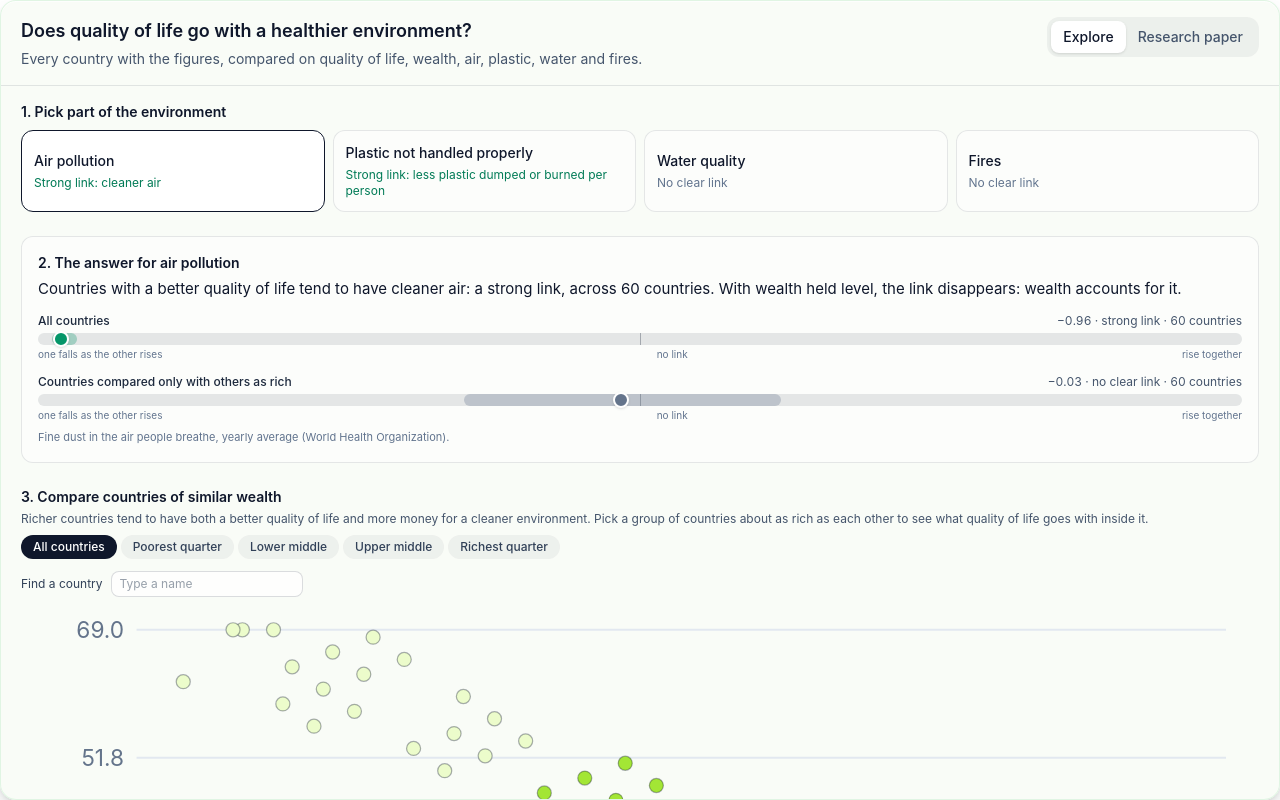
Findings — Explore › answers for the part picked, in a sentence and on a bar from −1 to +1
Check: the heading "2. The answer for air pollution" is shown, box [38, 254, 240, 271]
Check: the text "Countries with a better quality of life tend to have cleaner air: a strong link, across 60 countries." is shown, box [38, 279, 1182, 298]
Click the button "Fires No clear link" at [985, 160], box [956, 130, 1259, 212]
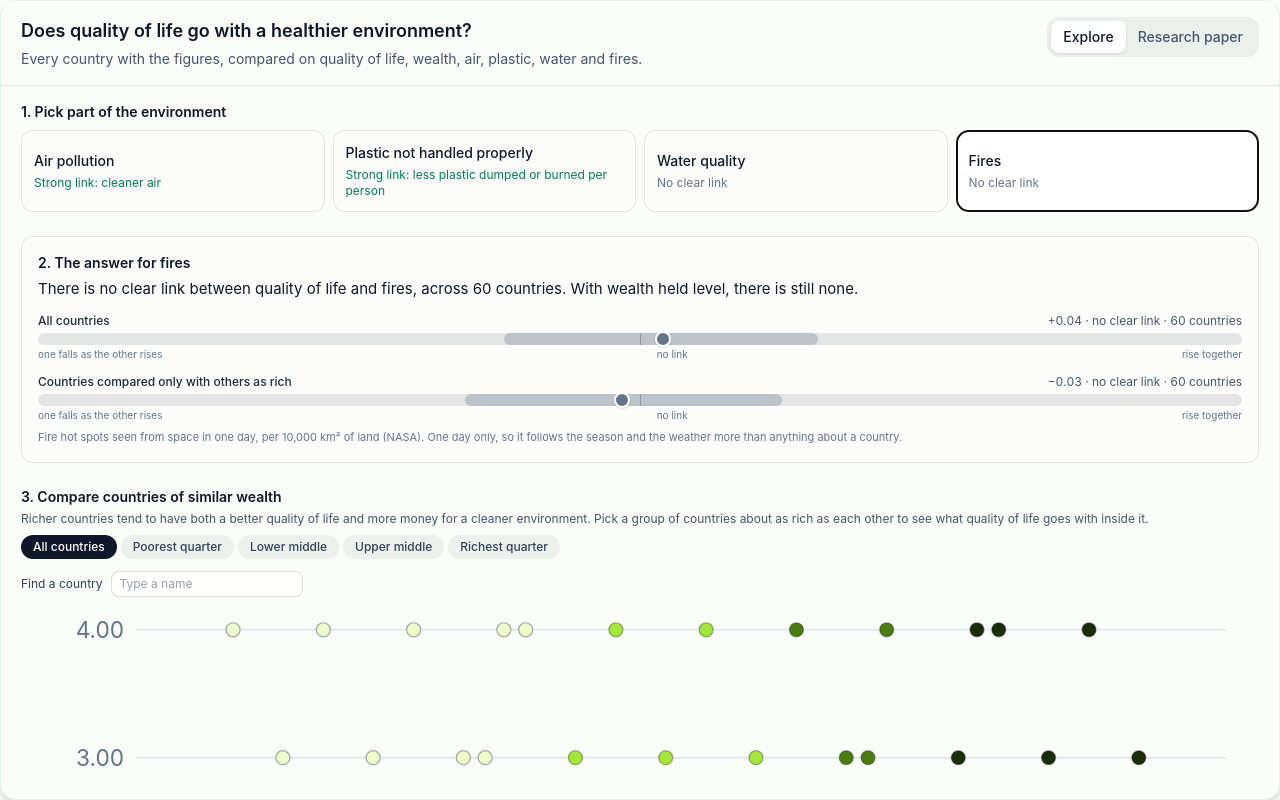
Check: the heading "2. The answer for fires" is shown, box [38, 254, 190, 271]
Check: the text "There is no clear link between quality of life and fires" is shown, box [38, 279, 858, 298]
